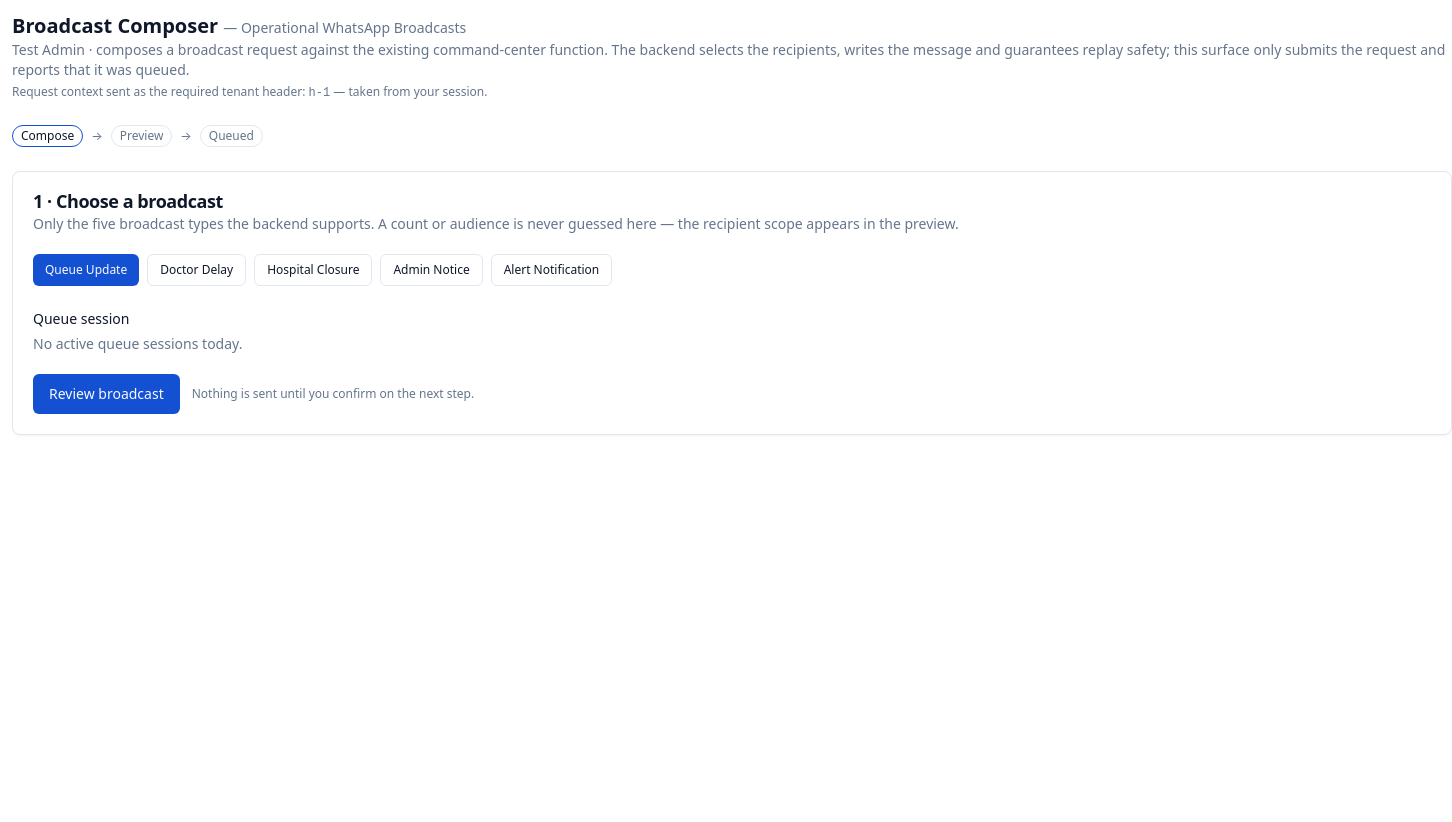
Test case: compose fields per broadcast type › doctor delay shows minutes + reason
The image size is (1452, 822).
Click the button with test id "type-doctor_delay": [197, 270] box [147, 254, 246, 286]
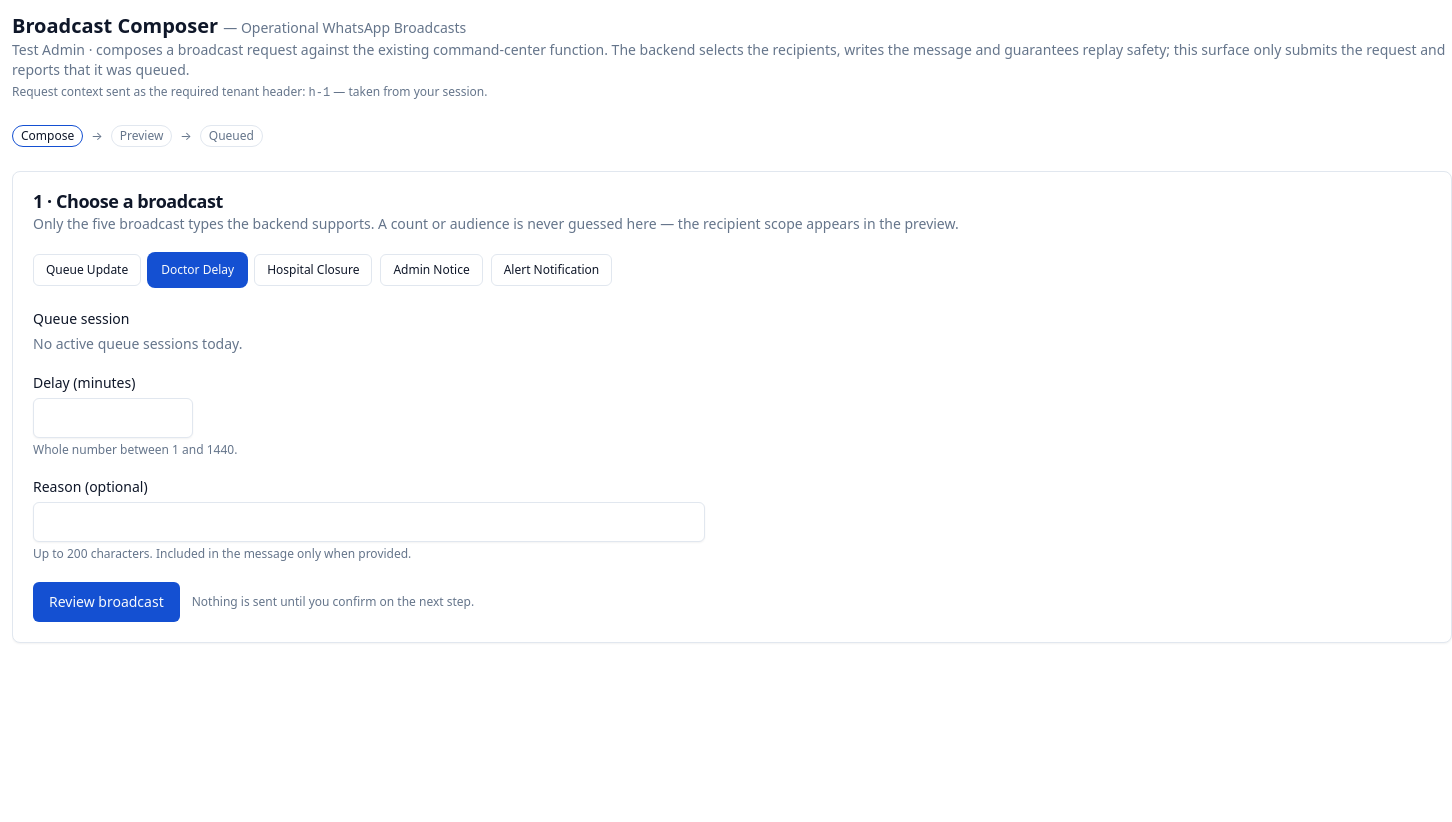
Expected: the number field with test id "bc-delay" is shown, [33, 398, 193, 438]
Expected: the field with test id "bc-reason" is shown, [33, 502, 705, 542]
